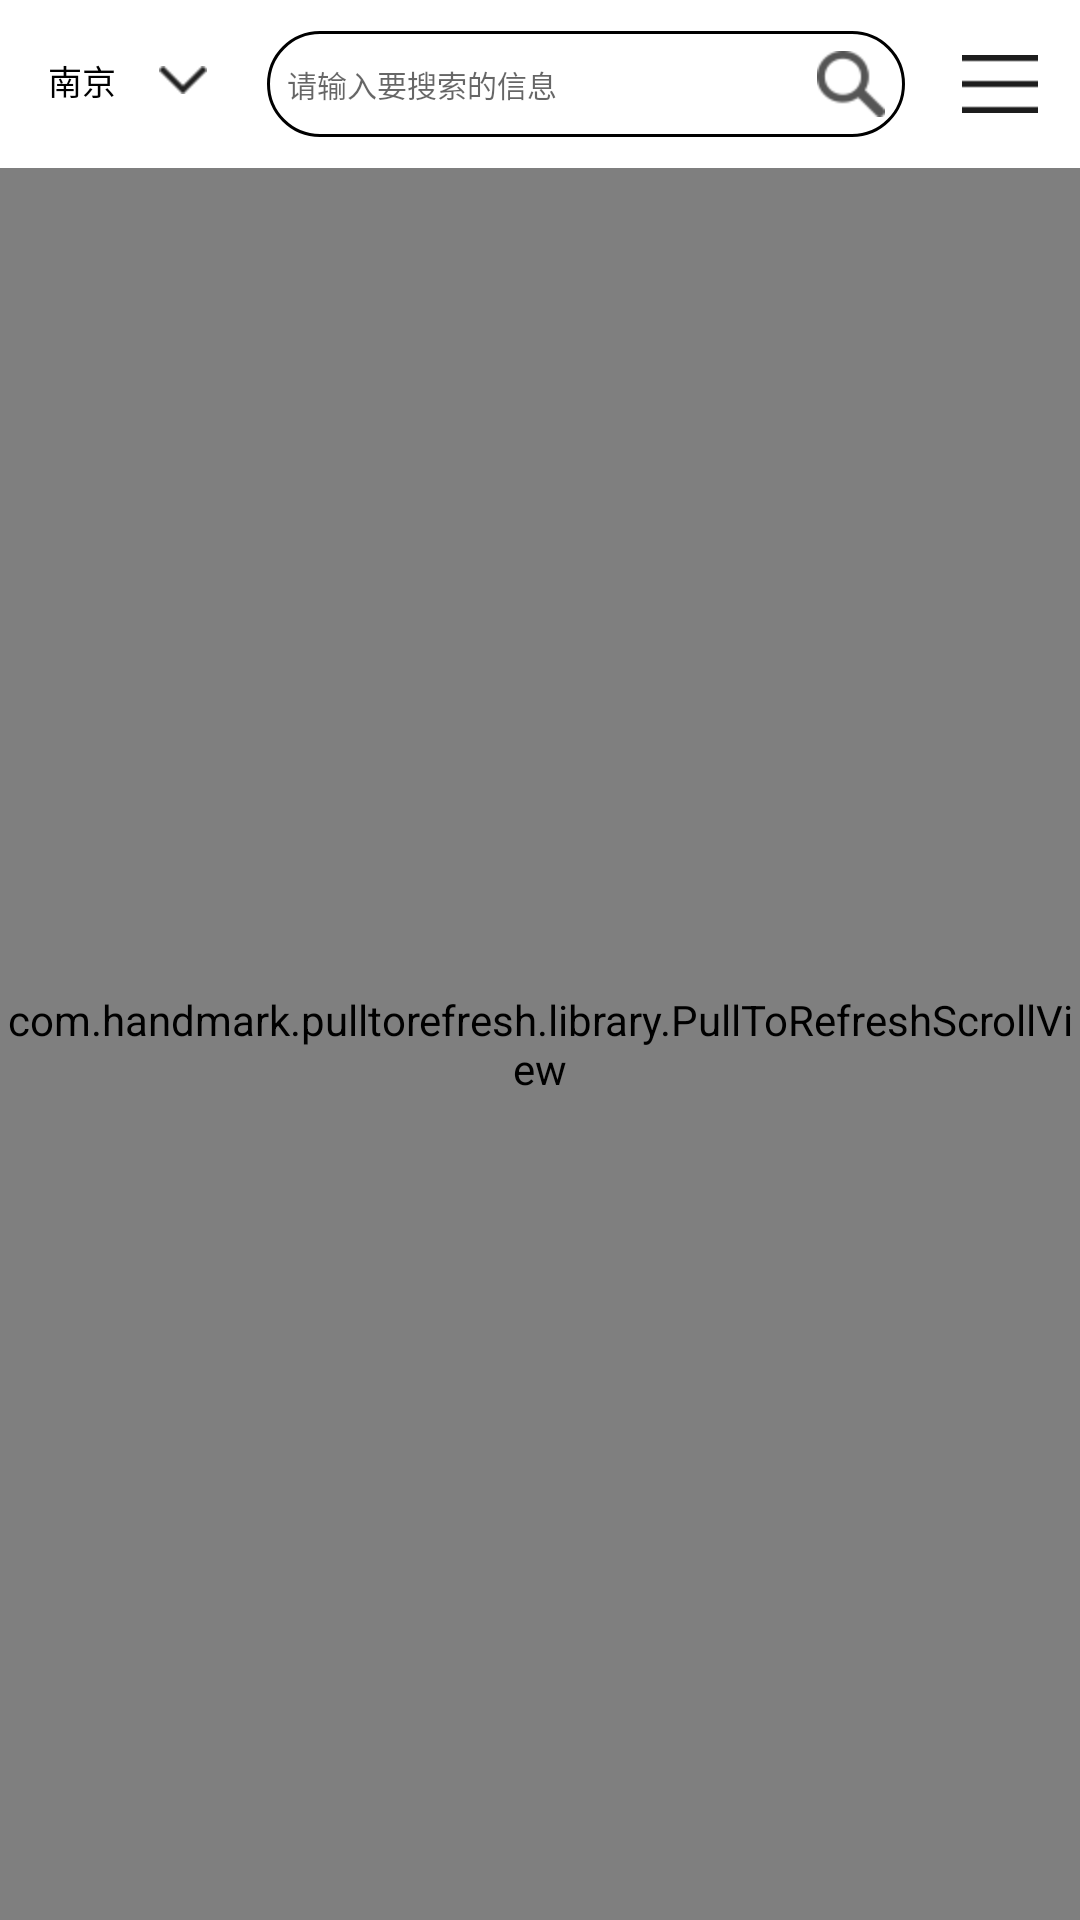

Icons on this 1080*1920 Android screen, each with its box as bbox=[x1, y1, x2, y2]:
side: bbox=[962, 55, 1038, 113]
